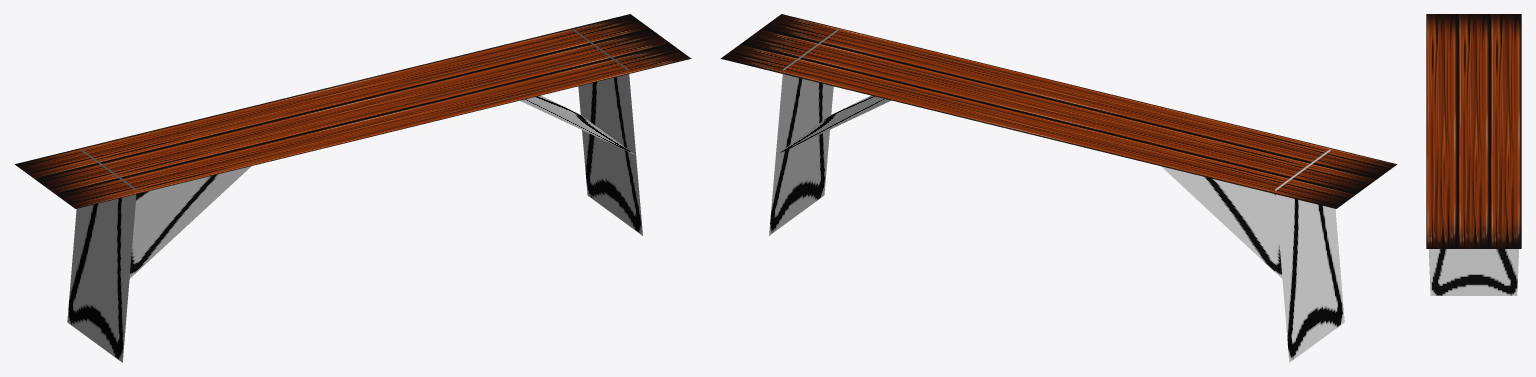
Rendered from Klappbank_1807.glb.
The picture shows the model from 3 angles, left to right: view 1: azimuth 30°, elevation 25°; view 2: azimuth 150°, elevation 25°; view 3: azimuth 270°, elevation 25°; orthographic projection. The views are drawn at different scales.
Parts seen in each view (by area): view 1: pPlaneShape22, pPlaneShape23, pPlaneShape26, pPlaneShape25, pPlaneShape27; view 2: pPlaneShape22, pPlaneShape23, pPlaneShape26, pPlaneShape25, pPlaneShape27; view 3: pPlaneShape22, pPlaneShape27.
Part boxes in pixels (box(x1,y1,x2,y2)): pPlaneShape22: box(15, 14, 691, 208); pPlaneShape23: box(67, 149, 136, 362); pPlaneShape26: box(573, 29, 642, 235); pPlaneShape25: box(129, 166, 251, 278); pPlaneShape27: box(520, 95, 634, 154); pPlaneShape22: box(720, 14, 1396, 208); pPlaneShape23: box(1275, 149, 1344, 362); pPlaneShape26: box(769, 29, 838, 235); pPlaneShape25: box(1161, 166, 1282, 278); pPlaneShape27: box(777, 95, 890, 154); pPlaneShape22: box(1426, 14, 1521, 248); pPlaneShape27: box(1429, 249, 1518, 295).
Bounding box in the file's own units: 0.242 × 0.0639 × 0.0416.
5 materials, 5 textured.
